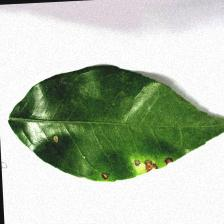canker: (45, 128, 177, 190)
